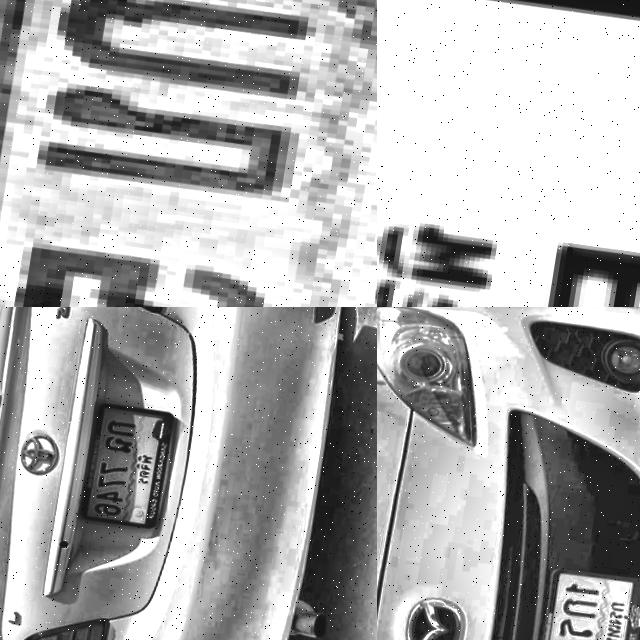license-plate: (0, 0, 377, 307), (377, 0, 640, 307), (63, 391, 180, 542), (526, 569, 640, 640)
